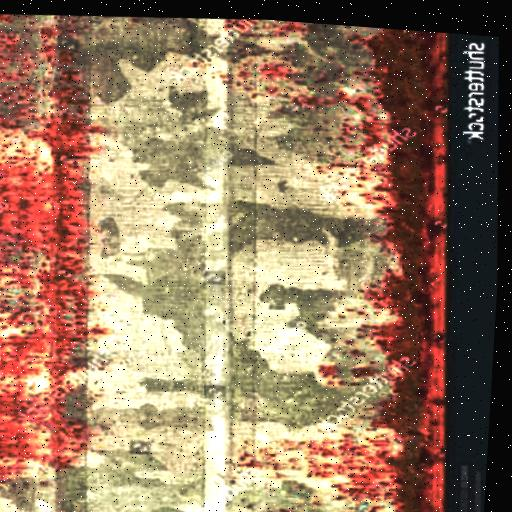corrosion: (304, 25, 476, 512), (0, 9, 133, 498)
